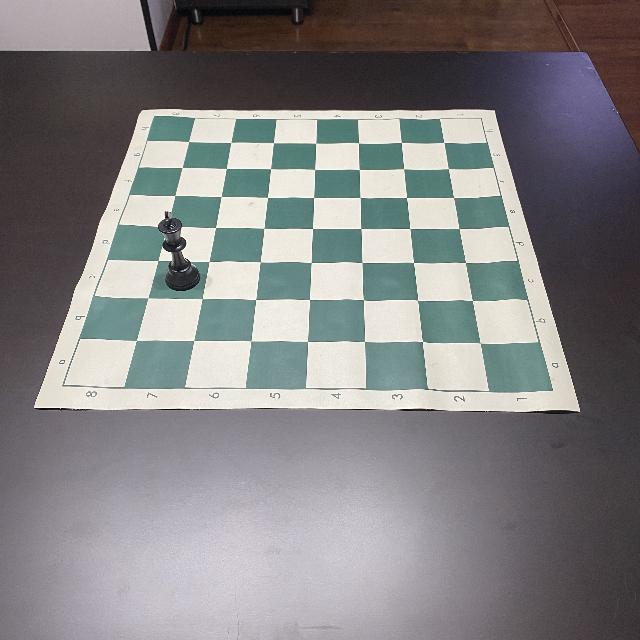black-king: (157, 210, 201, 290)
board: (32, 108, 580, 414)
